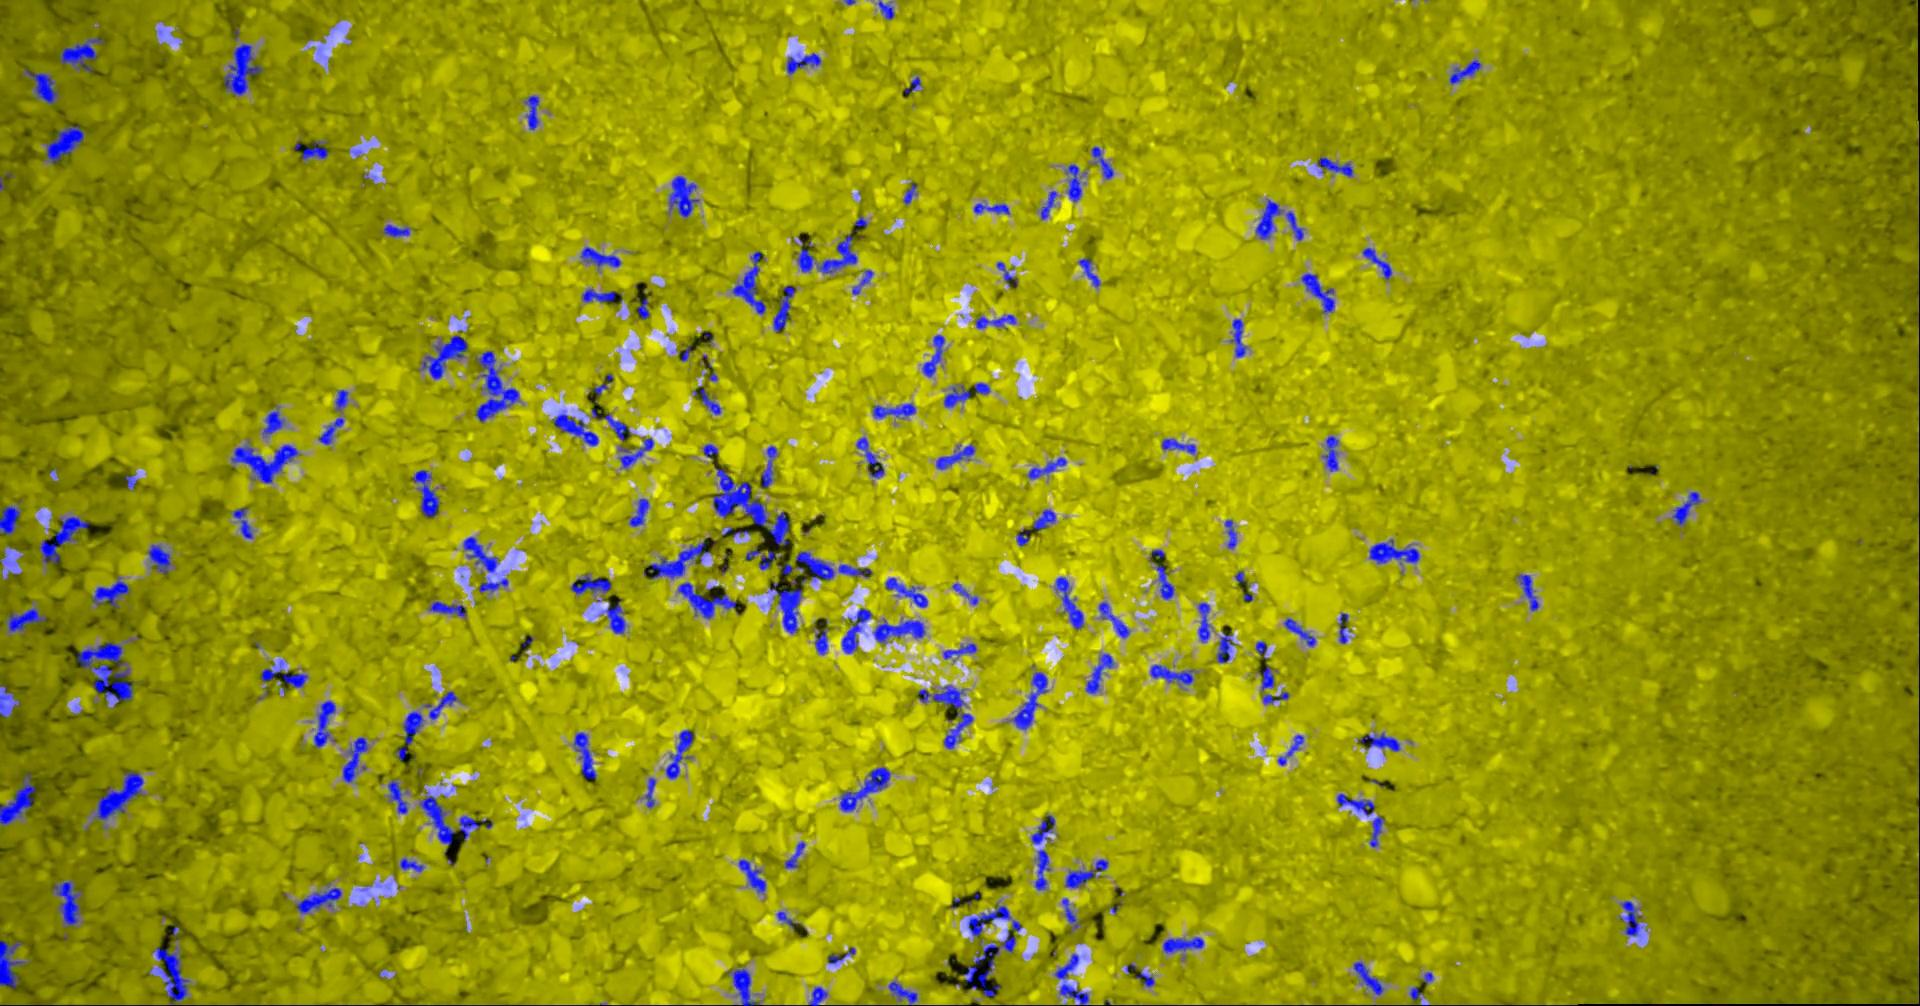ant: (963, 920, 1021, 996), (917, 685, 971, 748), (230, 445, 298, 483), (645, 541, 709, 578), (95, 771, 143, 819), (39, 516, 89, 563), (677, 582, 737, 619), (839, 767, 890, 810), (1012, 672, 1048, 729), (152, 948, 188, 1005), (731, 251, 764, 312), (223, 43, 262, 95), (422, 335, 467, 379), (0, 771, 36, 824), (419, 791, 455, 845), (58, 37, 104, 71), (818, 234, 856, 273), (1055, 575, 1083, 629), (44, 124, 83, 163), (552, 413, 597, 445), (665, 729, 693, 779), (841, 608, 871, 653), (411, 469, 439, 517), (968, 904, 1010, 936), (1302, 273, 1335, 312), (396, 711, 423, 760), (668, 175, 698, 217), (885, 577, 927, 607), (462, 536, 498, 572), (295, 887, 342, 913), (590, 408, 630, 439), (1369, 539, 1418, 563), (342, 735, 367, 782), (872, 619, 924, 641), (52, 880, 79, 925), (24, 67, 57, 103), (1065, 859, 1107, 887), (728, 968, 759, 1005), (0, 940, 24, 988), (91, 577, 130, 607), (1084, 653, 1112, 694), (856, 436, 883, 478), (1098, 601, 1129, 636), (312, 700, 335, 747), (573, 732, 596, 779), (1255, 199, 1281, 239), (618, 437, 653, 467), (1352, 962, 1383, 995), (935, 443, 974, 469), (773, 285, 794, 332), (1363, 246, 1390, 279), (1672, 492, 1700, 525), (1283, 619, 1316, 647), (922, 334, 943, 376), (260, 668, 307, 687), (424, 691, 456, 719), (738, 859, 764, 892), (1336, 793, 1374, 815), (745, 545, 781, 569), (570, 573, 610, 594), (8, 608, 44, 631), (1449, 58, 1481, 84), (1150, 664, 1192, 683), (1357, 732, 1399, 751), (458, 815, 491, 840), (693, 385, 720, 414), (579, 246, 620, 265), (1027, 457, 1065, 478), (1277, 734, 1303, 765), (786, 52, 820, 74), (1517, 574, 1538, 610), (317, 417, 343, 445), (888, 981, 917, 1005), (1316, 158, 1352, 177), (147, 544, 170, 574), (387, 779, 408, 813), (1620, 901, 1641, 935), (759, 445, 776, 486), (1091, 146, 1112, 178), (1031, 814, 1054, 843), (872, 403, 916, 418), (770, 511, 789, 545), (1156, 564, 1173, 600), (1059, 983, 1088, 1005), (606, 600, 625, 633), (1078, 257, 1098, 287), (1034, 848, 1049, 889), (1054, 953, 1078, 978), (293, 141, 328, 159), (1322, 434, 1338, 471), (232, 507, 251, 539), (795, 238, 813, 271), (943, 385, 970, 406), (1162, 937, 1203, 951), (1065, 164, 1081, 201), (975, 314, 1015, 328), (1230, 318, 1244, 357), (996, 260, 1017, 286), (262, 410, 283, 436), (943, 643, 977, 659), (783, 841, 804, 868), (629, 498, 648, 526), (0, 506, 19, 533), (523, 95, 538, 130), (1161, 438, 1195, 453), (851, 269, 872, 293), (952, 583, 977, 605), (1285, 211, 1303, 240), (1217, 633, 1234, 662), (1062, 898, 1079, 927), (428, 601, 465, 615), (593, 373, 613, 396), (1040, 191, 1057, 218), (582, 288, 615, 302), (814, 619, 827, 654), (1197, 602, 1209, 641), (1369, 815, 1383, 847), (1032, 509, 1055, 528), (827, 948, 855, 963), (838, 564, 871, 577), (477, 578, 507, 592), (776, 911, 799, 927), (973, 203, 1010, 213), (0, 685, 11, 716), (808, 986, 827, 1005), (644, 777, 655, 807), (383, 224, 409, 236), (1224, 520, 1236, 547), (399, 857, 422, 871), (1261, 666, 1274, 690), (877, 0, 893, 19), (1262, 691, 1288, 702), (1135, 970, 1154, 986), (335, 389, 348, 410), (1338, 614, 1347, 643), (903, 183, 916, 203), (636, 297, 649, 318), (904, 76, 919, 93), (852, 215, 866, 231), (1016, 528, 1029, 545), (703, 445, 717, 459), (1255, 641, 1266, 658), (1410, 986, 1422, 1000), (124, 474, 136, 489), (973, 382, 989, 392)
